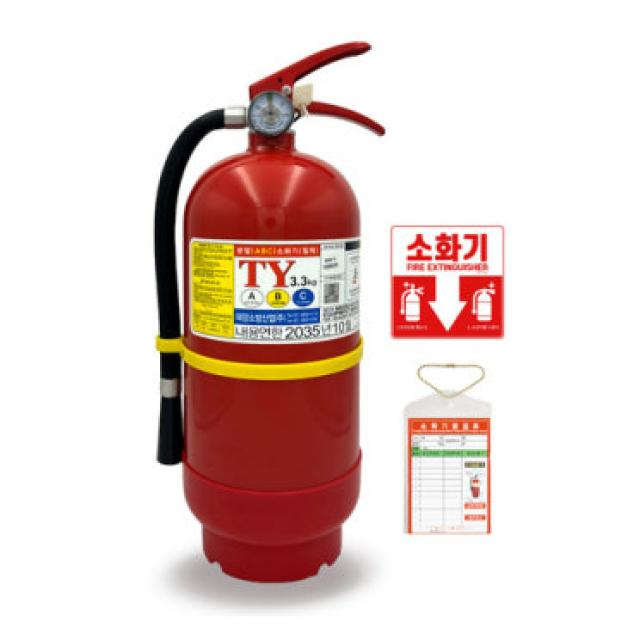pressure gauge: (248, 92, 294, 135)
